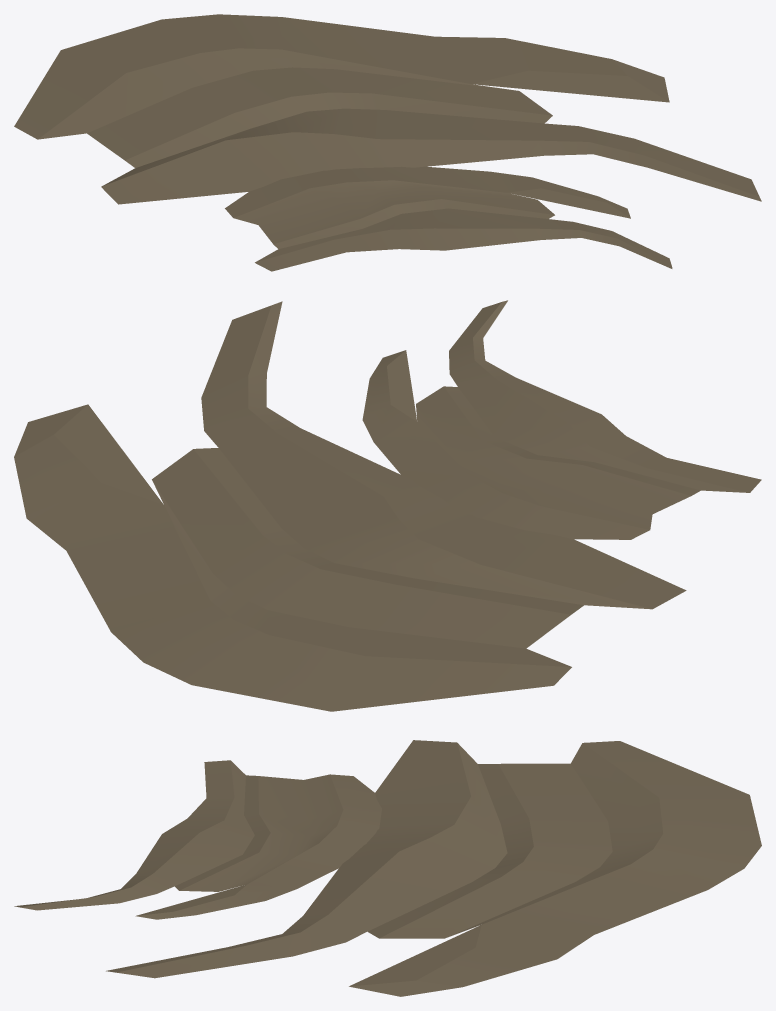
File: dixing6.FBX
The picture shows the model from 3 angles, top to bottom: view 1: azimuth 30°, elevation 25°; view 2: azimuth 150°, elevation 25°; view 3: azimuth 270°, elevation 25°; orthographic projection. The views are drawn at different scales.
Visible parts, largest first — view 1: Dunes01; view 2: Dunes01; view 3: Dunes01.
Boxes of the visible parts, bbox=[...] form: Dunes01: bbox=[14, 14, 761, 271]; Dunes01: bbox=[14, 300, 761, 711]; Dunes01: bbox=[14, 740, 761, 996].
Bounding box in the file's own units: 10.88 × 0.1859 × 13.39.
